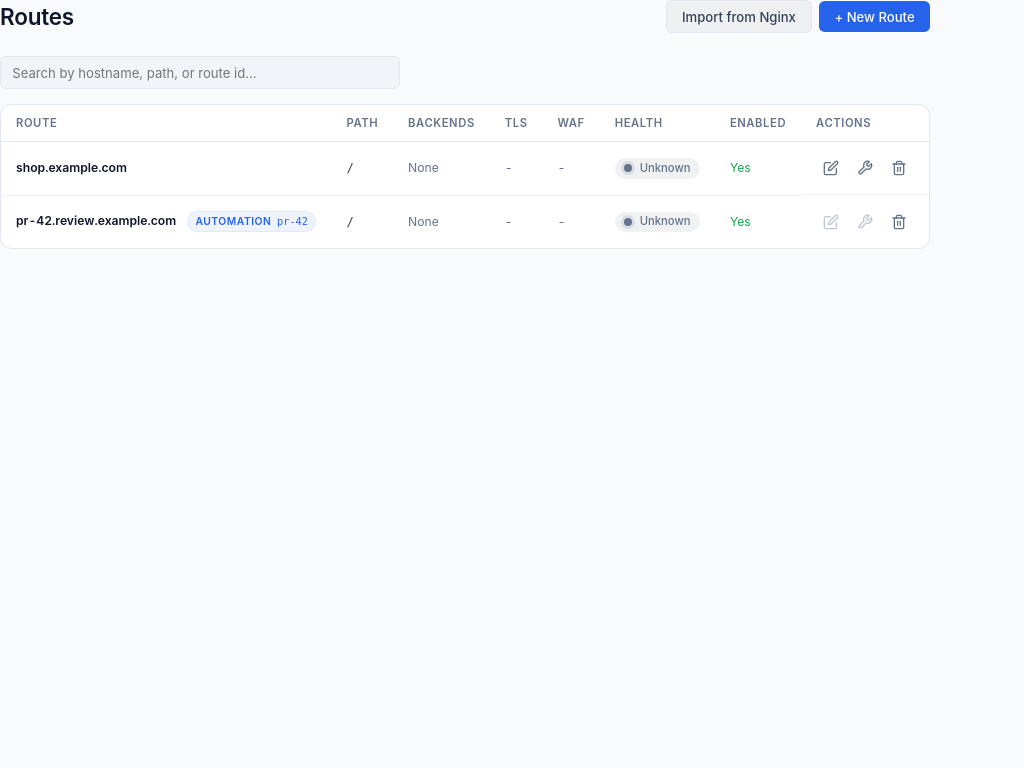
Test: Routes page: rows the automation API owns (Story 10.4 AC #8) › keeps Delete available on a managed route and names the environment in the confirmation
Click the button named "Delete pr-42.review.example.com/" at (899, 222), box [884,207,914,237]
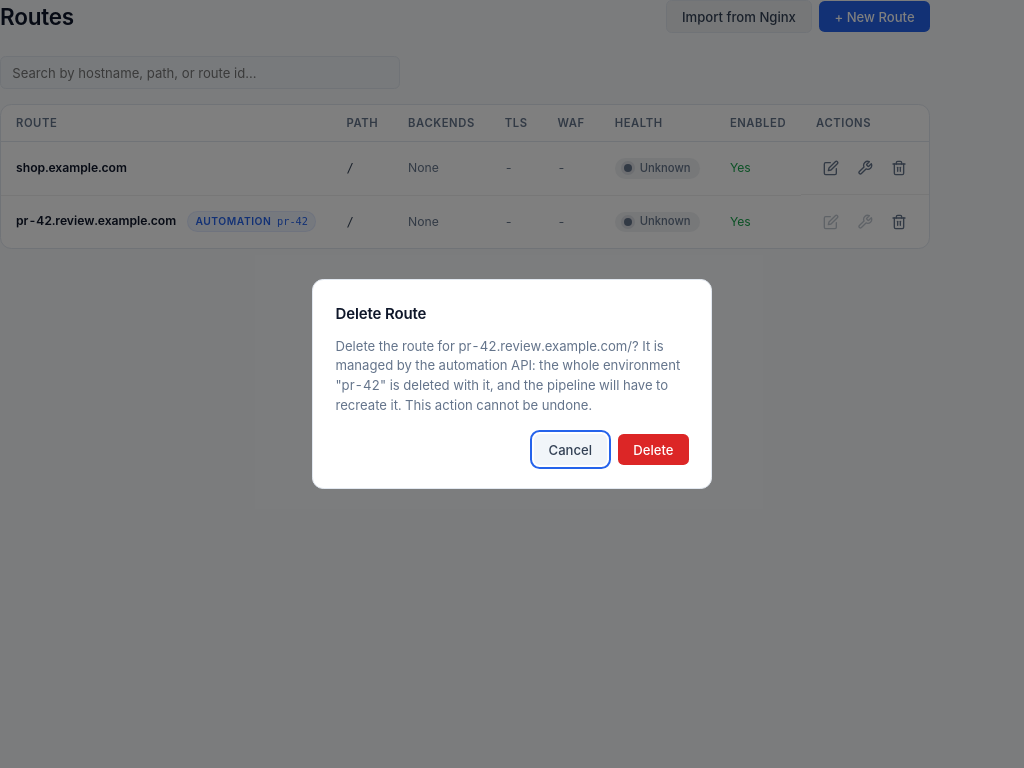
Check: the dialog shows "the whole environment \"pr-42\" is deleted with it", box [336,338,680,413]
